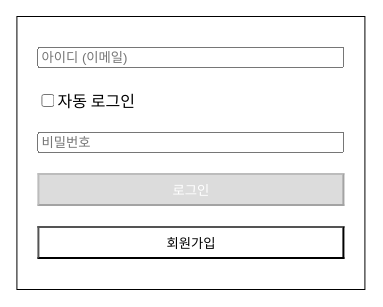
Test: login 페이지 테스트 › 9. 아이디(이메일) 입력 필드에서 @ 키를 눌렀을 시, 자동완성 목록이 표시 되는가
Type "abcdefg@" into the field with id "email".
click(191, 58); type("abcdefg@")  # box [37,47,344,68]
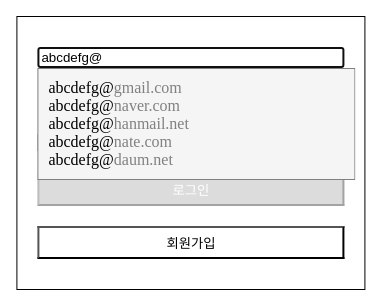
expect the element with class "option-panel" is shown: met, box [37,68,355,180]
